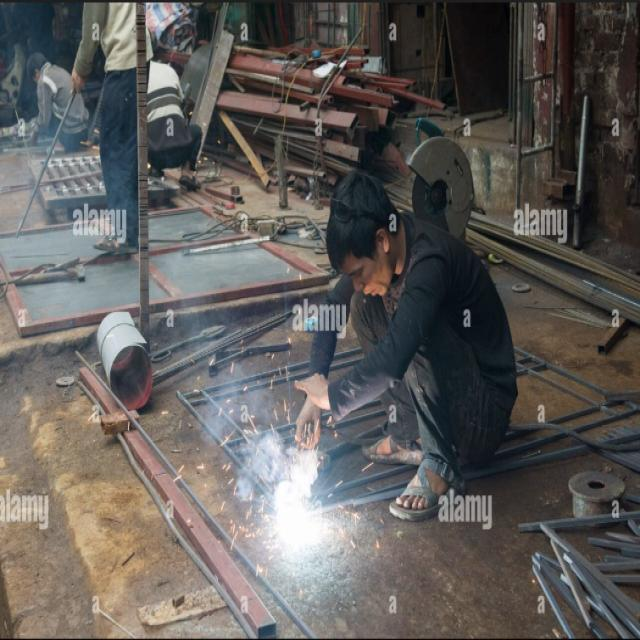no-boots: (362, 417, 492, 540), (90, 196, 144, 262)
no-gloves: (292, 342, 364, 466), (63, 38, 106, 112)
no-helmet: (306, 158, 432, 317)
person: (261, 112, 556, 546)
